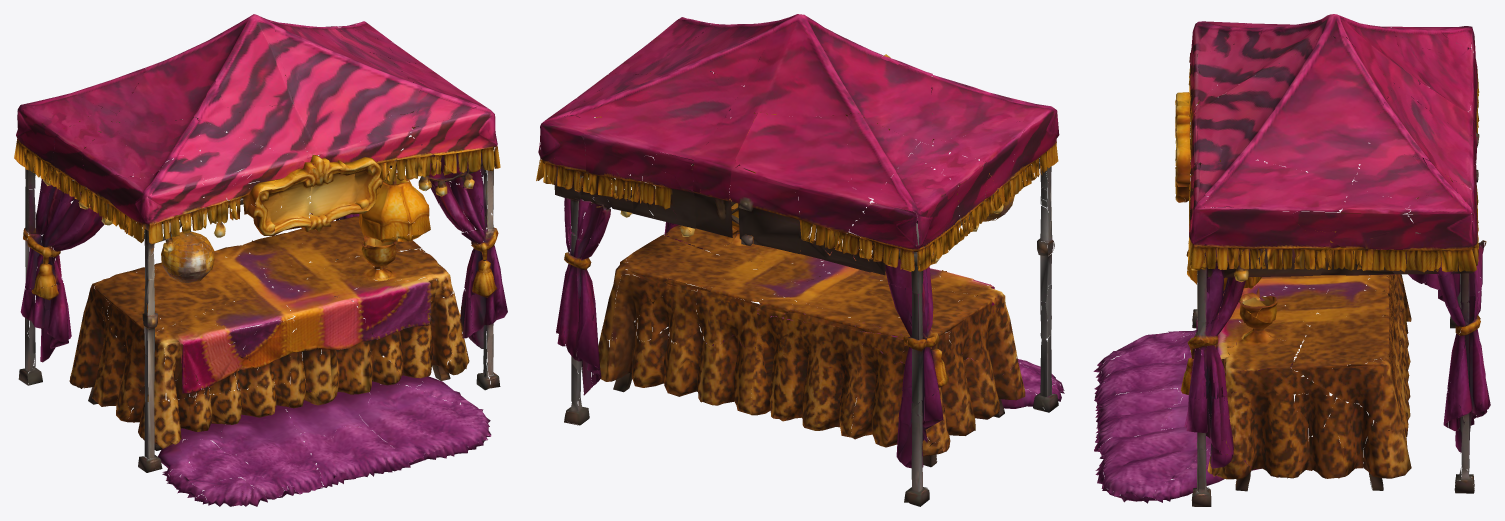
The model's file is counter.glb.
The picture shows the model from 3 angles, left to right: view 1: azimuth 30°, elevation 25°; view 2: azimuth 150°, elevation 25°; view 3: azimuth 270°, elevation 25°; orthographic projection. The views are drawn at different scales.
Parts seen in each view (by area): view 1: tripo_node_6ec2acb9-4a80-49be-8f61-979d3889e3b1; view 2: tripo_node_6ec2acb9-4a80-49be-8f61-979d3889e3b1; view 3: tripo_node_6ec2acb9-4a80-49be-8f61-979d3889e3b1.
Part boxes in pixels (x1=…): tripo_node_6ec2acb9-4a80-49be-8f61-979d3889e3b1: x1=14, y1=14, x2=507, y2=506; tripo_node_6ec2acb9-4a80-49be-8f61-979d3889e3b1: x1=536, y1=14, x2=1064, y2=506; tripo_node_6ec2acb9-4a80-49be-8f61-979d3889e3b1: x1=1093, y1=14, x2=1490, y2=506.
Bounding box in the file's own units: 0.9991 × 0.9962 × 0.8596.
1 material, 1 textured.
